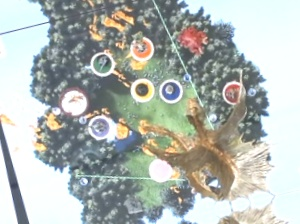blue: (154, 73, 187, 106)
green: (86, 47, 118, 78)
orange: (126, 31, 156, 63)
pink: (144, 153, 174, 184)
red: (219, 76, 251, 106)
violet: (82, 111, 117, 141)
yellow: (125, 71, 157, 105)
